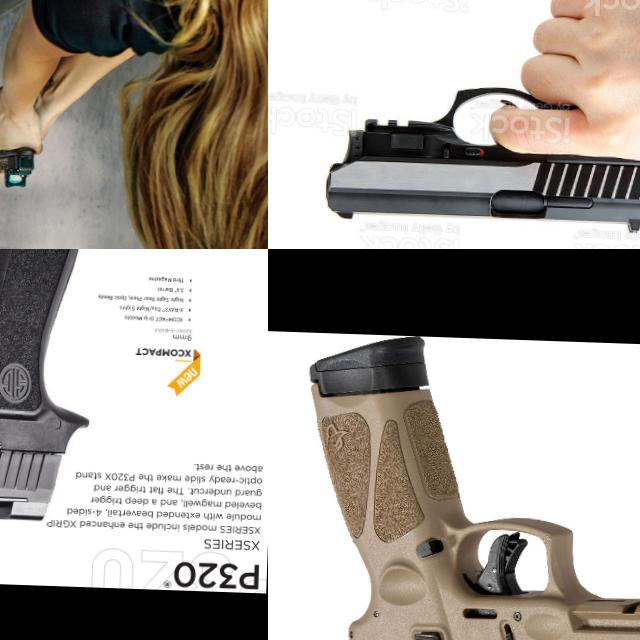handgun: (292, 331, 640, 640), (0, 249, 213, 528), (319, 76, 640, 236), (0, 142, 37, 190)
